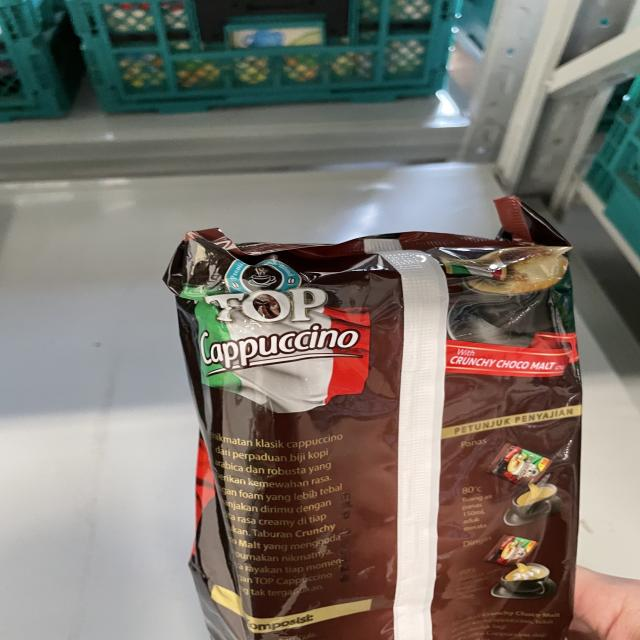object_name: (179, 246, 573, 628)
